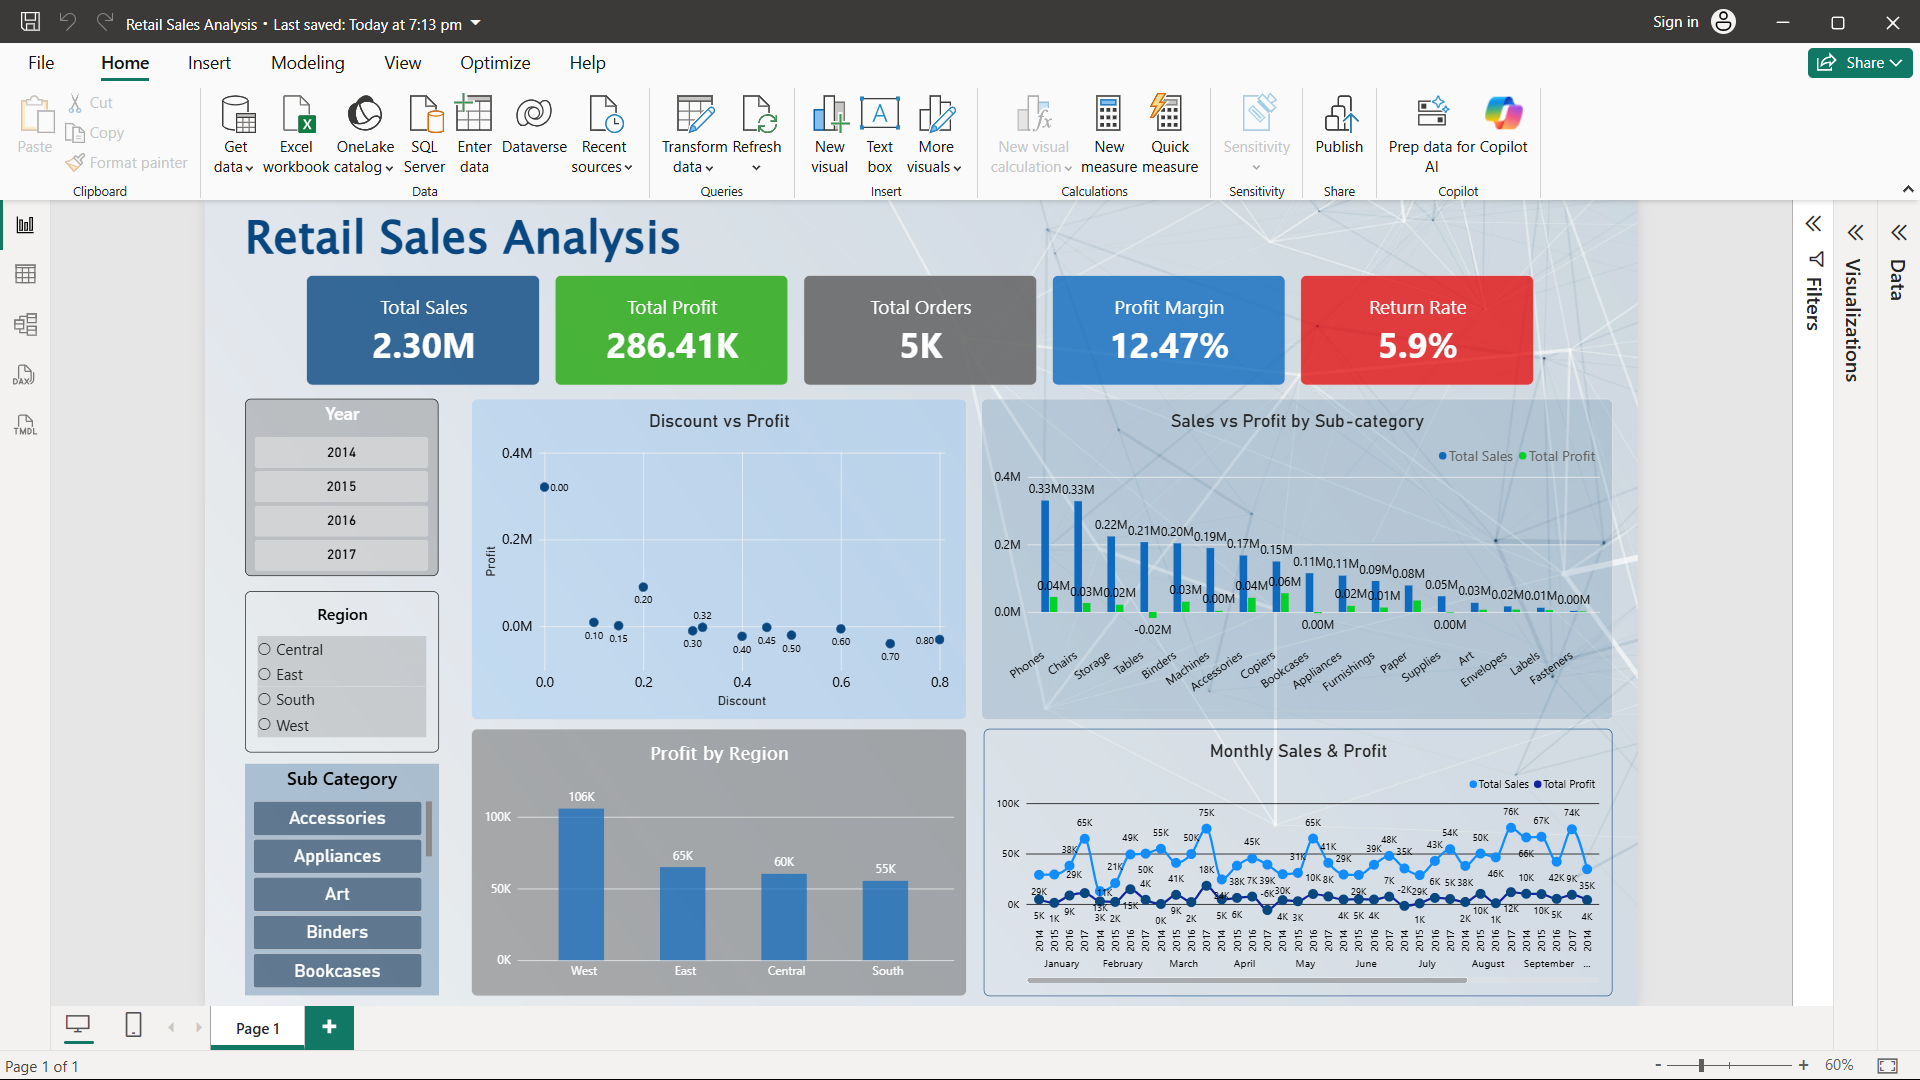

Layout of this report page (visuals, bound fields, positions):
{"tool":"powerbi","page":{"name":"Page 1","canvas":[1920,1080],"ordinal":0},"visuals":[{"type":"textbox","title":"Retail Sales Analysis","box":[54,5.4,675,95.9],"z":0},{"type":"cardVisual","fields":{"Data":["public sales_clean.Total Sales","public sales_clean.Total Profit","public sales_clean.Total Orders","public sales_clean.Profit Margin","public sales_clean.Return Rate"]},"box":[136,100,1648,148],"z":1000},{"type":"lineChart","title":"Monthly Sales & Profit","fields":{"Y":["public sales_clean.Total Sales","public sales_clean.Total Profit"],"Category":["public sales_clean.Month Start.Variation.Date Hierarchy.Month","public sales_clean.Month Year"]},"box":[1044,708,842,358],"z":2000},{"type":"advancedSlicerVisual","fields":{"Values":["public sales_clean.order_date.Variation.Date Hierarchy.Year"]},"box":[54,266.6,259.4,237.7],"z":3000},{"type":"clusteredColumnChart","title":"Sales vs Profit by Sub-category","fields":{"Y":["public sales_clean.Total Sales","public sales_clean.Total Profit"],"Category":["public products_clean.sub_category"]},"box":[1040,266,846,430],"z":4000},{"type":"clusteredColumnChart","title":"Profit by Region","fields":{"Y":["public sales_clean.Total Profit"],"Category":["public customers_clean.region"]},"box":[356,708,664,358],"z":5000},{"type":"scatterChart","title":"Discount vs Profit","fields":{"Y":["public sales_clean.Total Profit"],"X":["public sales_clean.discount"]},"box":[356,266,664,430],"z":6000},{"type":"listSlicer","title":"Region","fields":{"Values":["public customers_clean.region"]},"box":[54,524,260,216],"z":7000},{"type":"advancedSlicerVisual","title":"Sub Category","fields":{"Values":["public products_clean.sub_category"]},"box":[54,756,260,310],"z":8000}]}

Visuals, with their boxes on the page's 1920x1080 design canvas (x1, y1, x2, y2). These are canvas units, not pixel positions in the 1920x1080 screenshot, which may show the page scaled, cropped or inside an application window:
"Retail Sales Analysis" textbox: x1=54, y1=5, x2=729, y2=101
cardVisual - public sales_clean.Total Sales x public sales_clean.Total Profit: x1=136, y1=100, x2=1784, y2=248
"Monthly Sales & Profit" lineChart: x1=1044, y1=708, x2=1886, y2=1066
advancedSlicerVisual - public sales_clean.order_date.Variation.Date Hierarchy.Year: x1=54, y1=267, x2=313, y2=504
"Sales vs Profit by Sub-category" clusteredColumnChart: x1=1040, y1=266, x2=1886, y2=696
"Profit by Region" clusteredColumnChart: x1=356, y1=708, x2=1020, y2=1066
"Discount vs Profit" scatterChart: x1=356, y1=266, x2=1020, y2=696
"Region" listSlicer: x1=54, y1=524, x2=314, y2=740
"Sub Category" advancedSlicerVisual: x1=54, y1=756, x2=314, y2=1066
